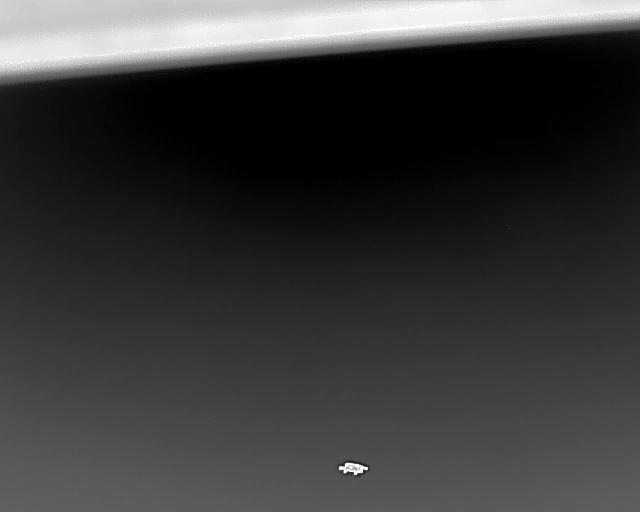fpv-drone: (338, 461, 369, 476)
